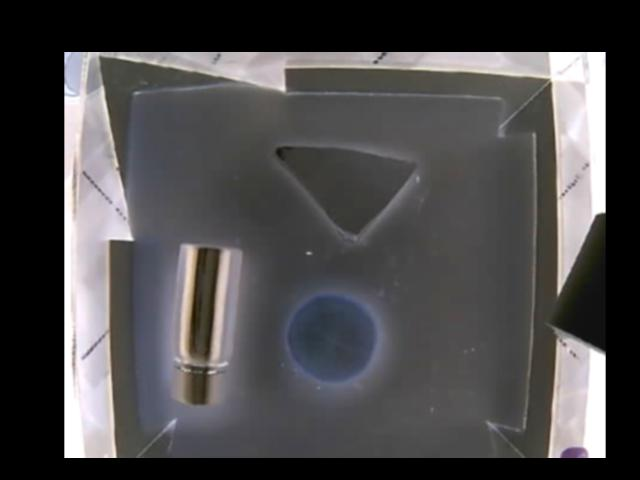Bottle: (172, 242, 241, 404)
China: (270, 147, 415, 239)
Mooli: (283, 294, 378, 386)
